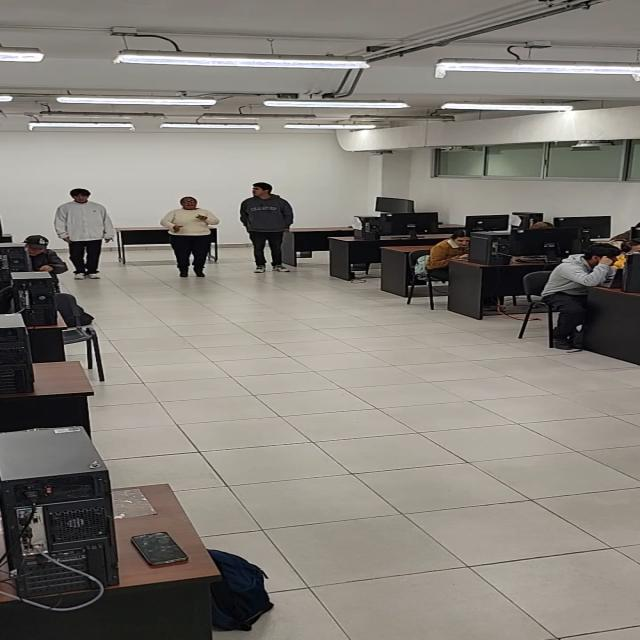Persona: (153, 192, 226, 281), (54, 185, 115, 282), (238, 179, 298, 277)
